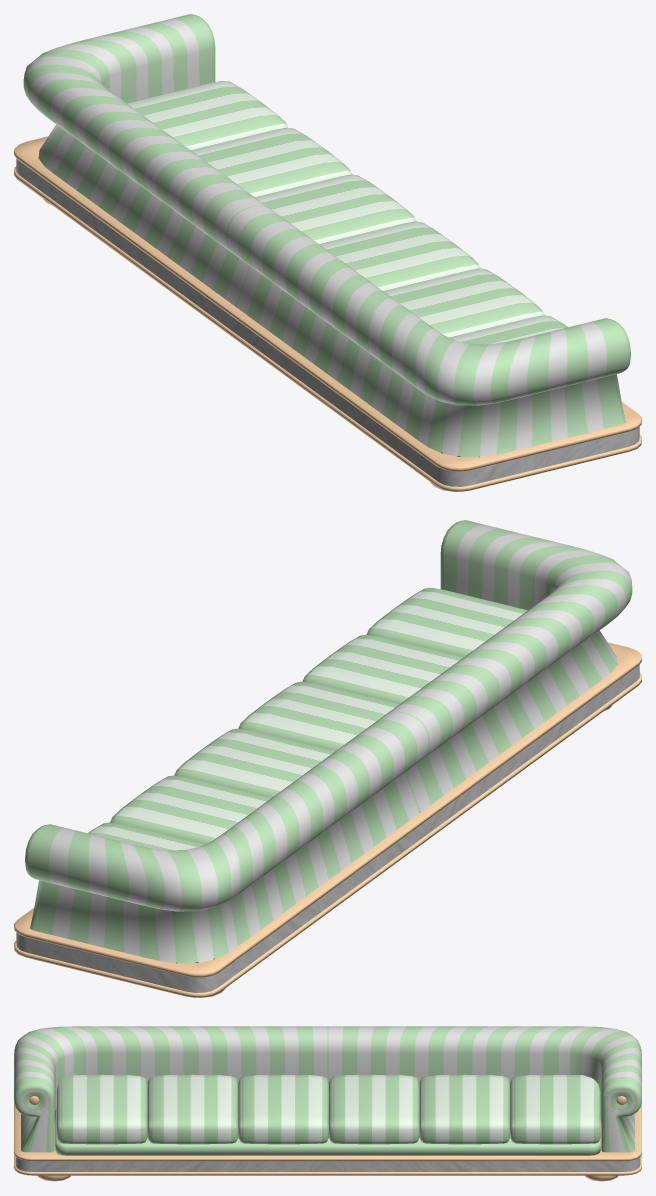
File: Sofa.glb
3 views of the same model, one above another, from view 1: azimuth 30°, elevation 25°; view 2: azimuth 150°, elevation 25°; view 3: azimuth 270°, elevation 25° (orthographic). The views are drawn at different scales.
Visible parts, largest first — view 1: SofaBaseA.001; view 2: SofaBaseA.001; view 3: SofaBaseA.001.
Boxes of the visible parts, <box> form: SofaBaseA.001: <box>14,14,641,491</box>; SofaBaseA.001: <box>14,520,641,997</box>; SofaBaseA.001: <box>14,1026,641,1181</box>.
Size of what is drawn, in the model's own units: 1.33 by 0.8475 by 5.05.
4 materials, 3 textured.
